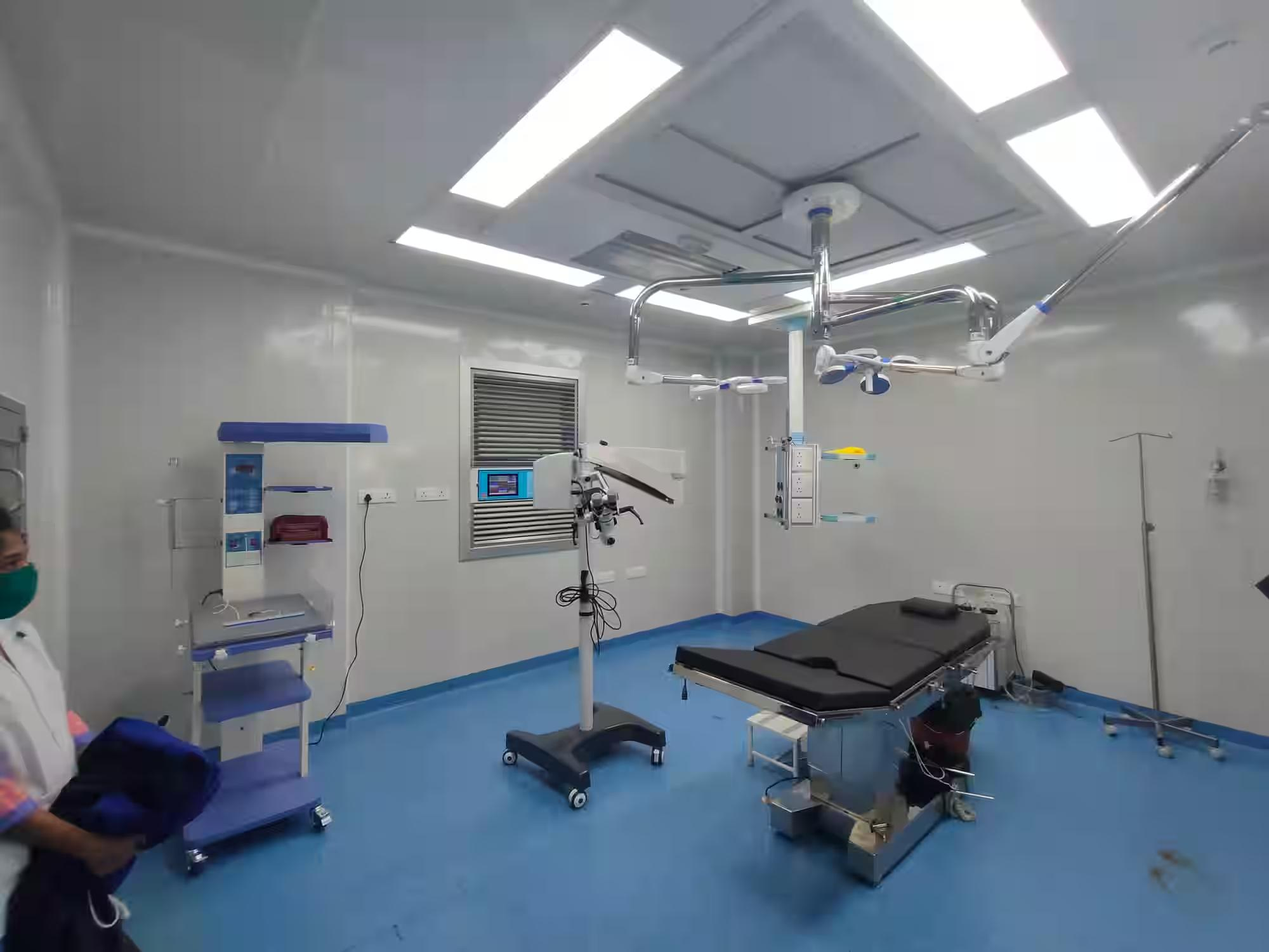Saline Stand: (1080, 395, 1235, 790)
bed: (661, 582, 1028, 891)
tools_table: (169, 591, 347, 875)
